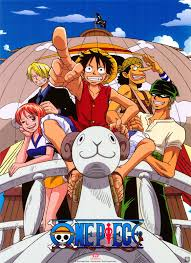luffy: (71, 48, 118, 89)
